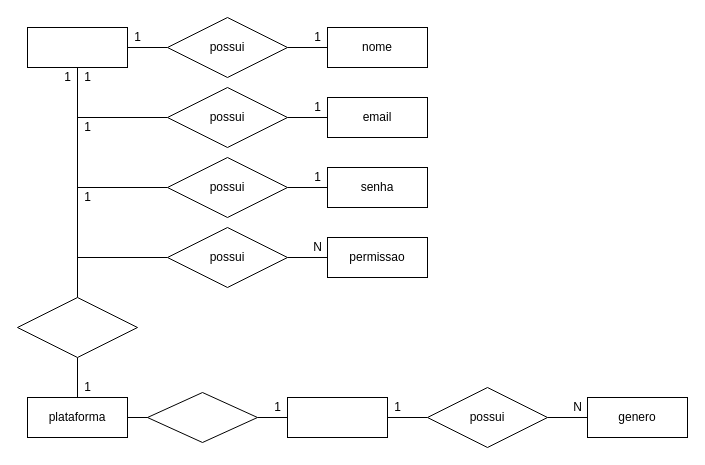
Image size: 705x465. Some labels were removed from this diagram. The box of each missing label's shape, as (x1, y1, x2, y2) in pixels:
acessa: (16, 296, 138, 358)
album: (286, 396, 388, 438)
contém: (146, 392, 258, 442)
usuario: (26, 26, 128, 68)
